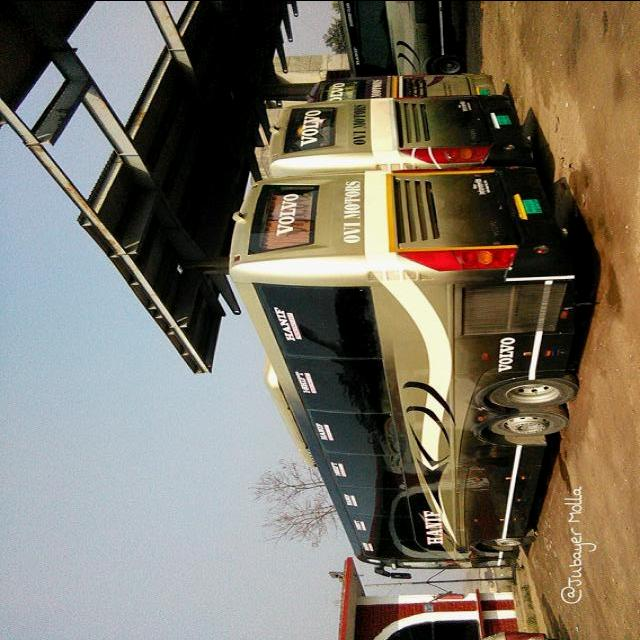bus: (227, 166, 580, 580)
